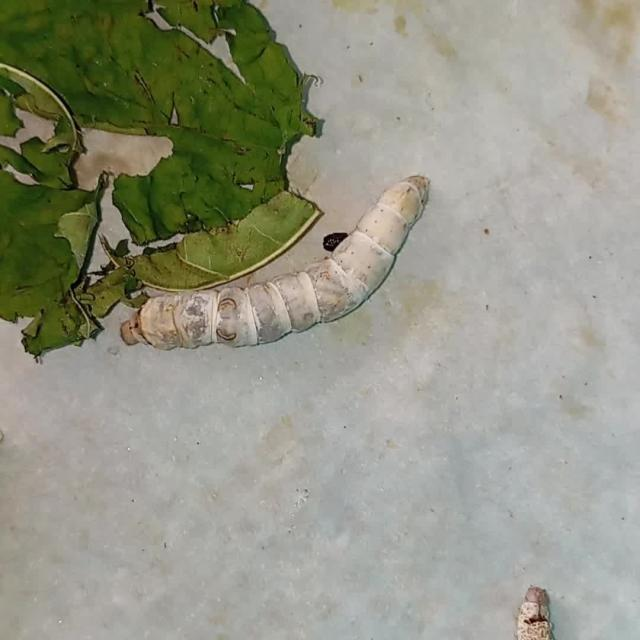Grasserie: (115, 162, 434, 357)
